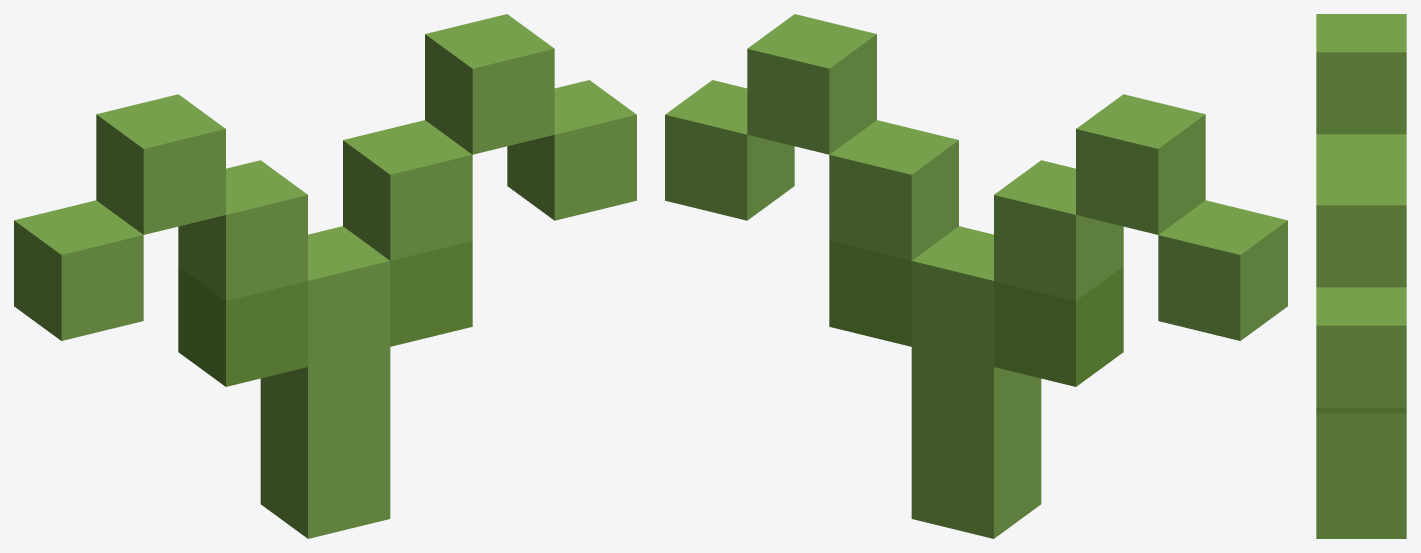
Rendered from Grass.glb.
The picture shows the model from 3 angles, left to right: view 1: azimuth 30°, elevation 25°; view 2: azimuth 150°, elevation 25°; view 3: azimuth 270°, elevation 25°; orthographic projection. The views are drawn at different scales.
Parts seen in each view (by area): view 1: generated(Clone); view 2: generated(Clone); view 3: generated(Clone).
Boxes of the visible parts, x1=… form: generated(Clone): x1=14, y1=14, x2=636, y2=538; generated(Clone): x1=665, y1=14, x2=1287, y2=538; generated(Clone): x1=1316, y1=14, x2=1406, y2=538.
Bounding box in the file's own units: 14 × 10 × 2.
1 material, 1 textured.
